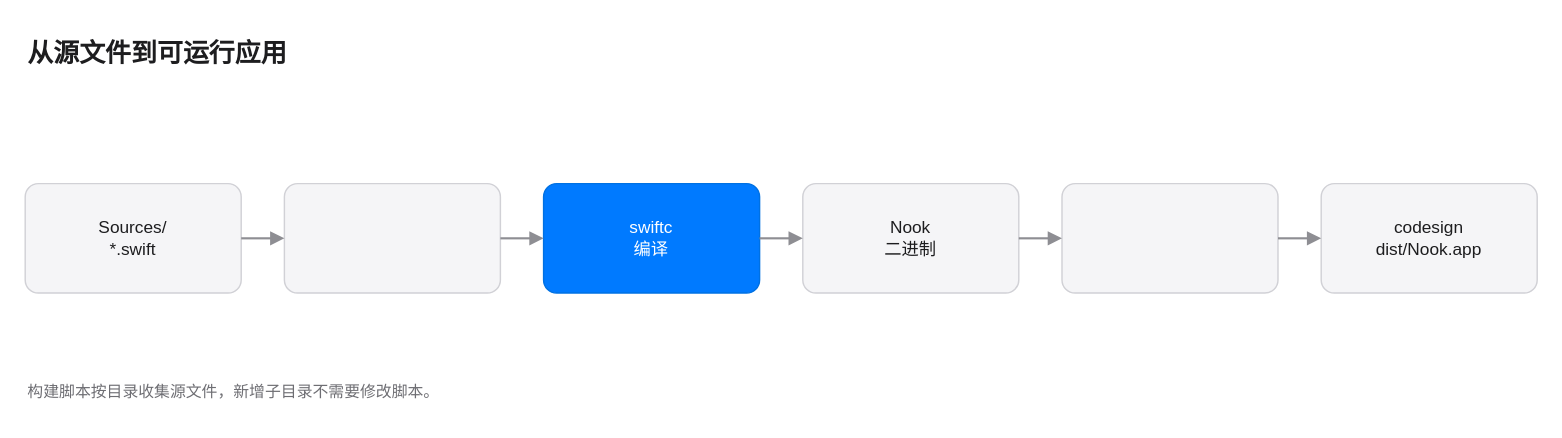
This 1562x438 diagram has some shape labels left out. Here are the shapes that lost their labels. From the top down, the box of each, then its label:
(283, 182, 500, 293): find 收集文件
(1061, 182, 1278, 293): .app plist + icon
